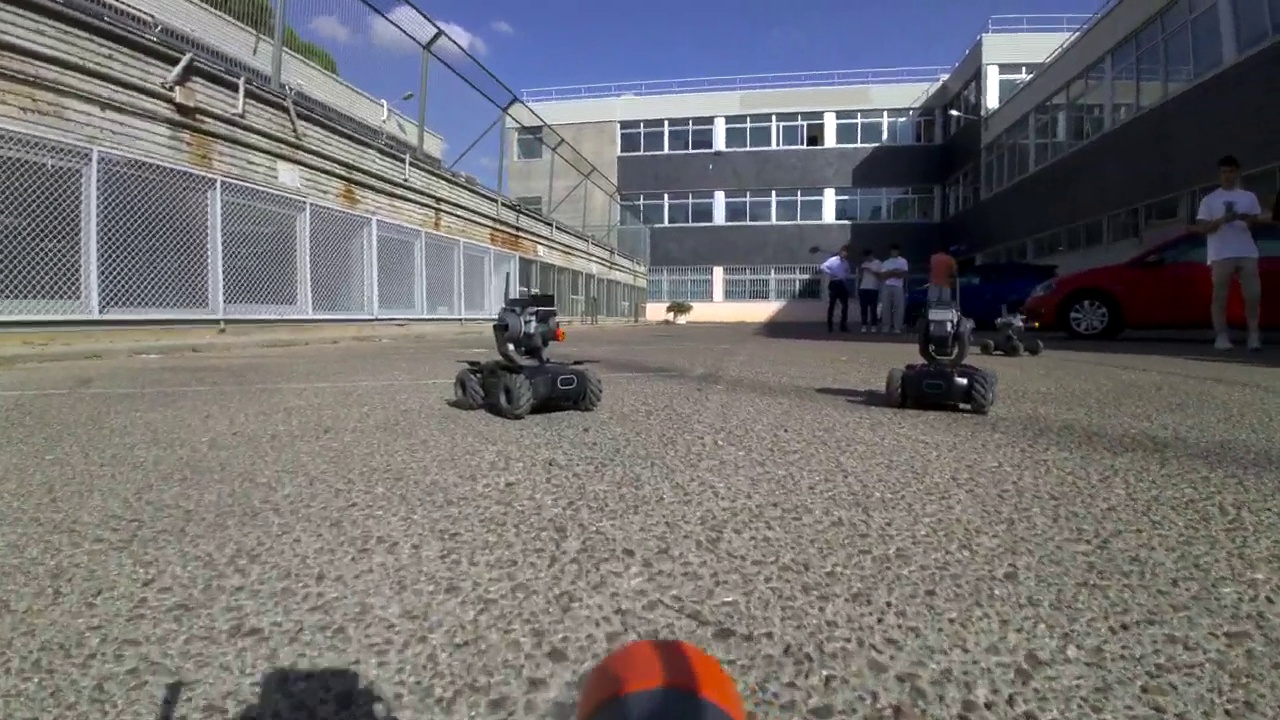robot: (453, 272, 605, 418), (880, 278, 997, 413), (985, 304, 1045, 358)
